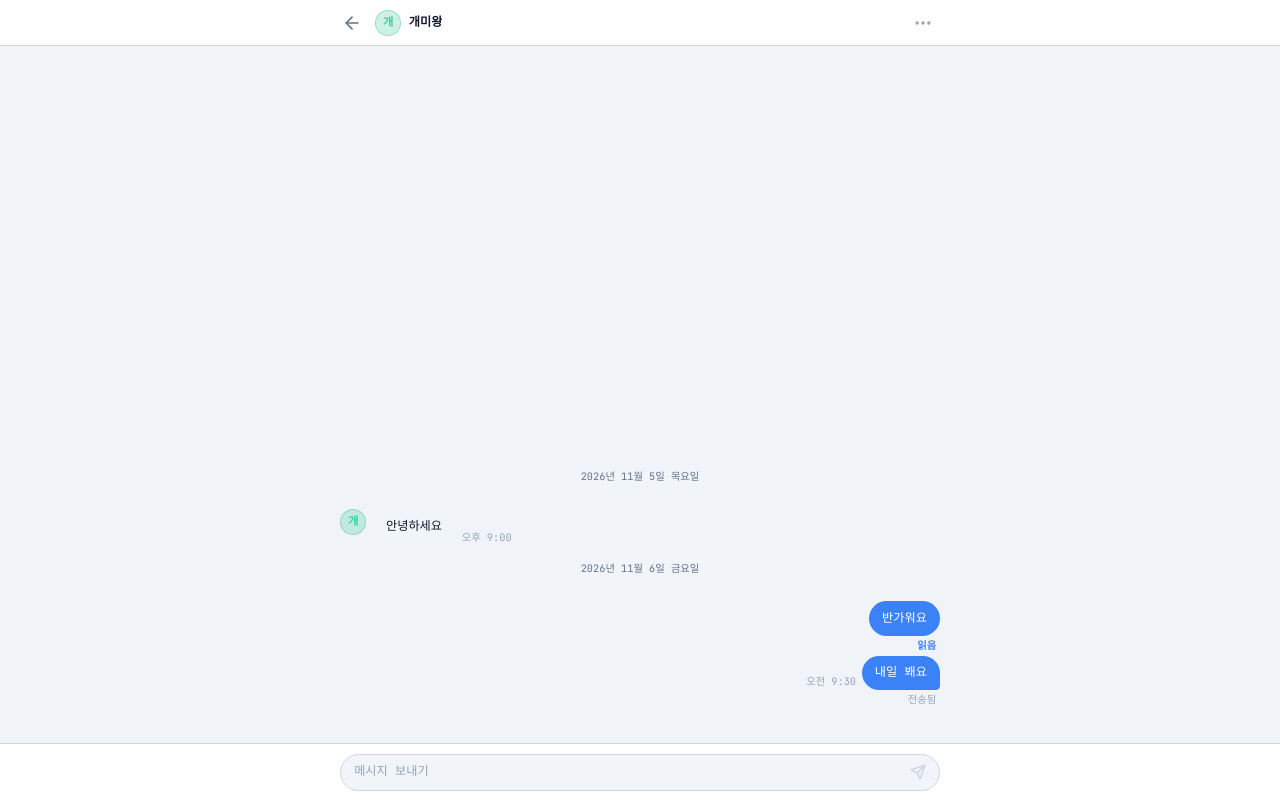
Test: 보내기 › 못 보내면 '못 보냄' — 눌러서 다시 보내기, 지우기
Expected: the button "안녕하세요" is shown, [372,509,456,546]
Step 1. Type "다시" into the text box named "메시지 쓰기" → coordinates (628, 772), box [354,762,902,782]
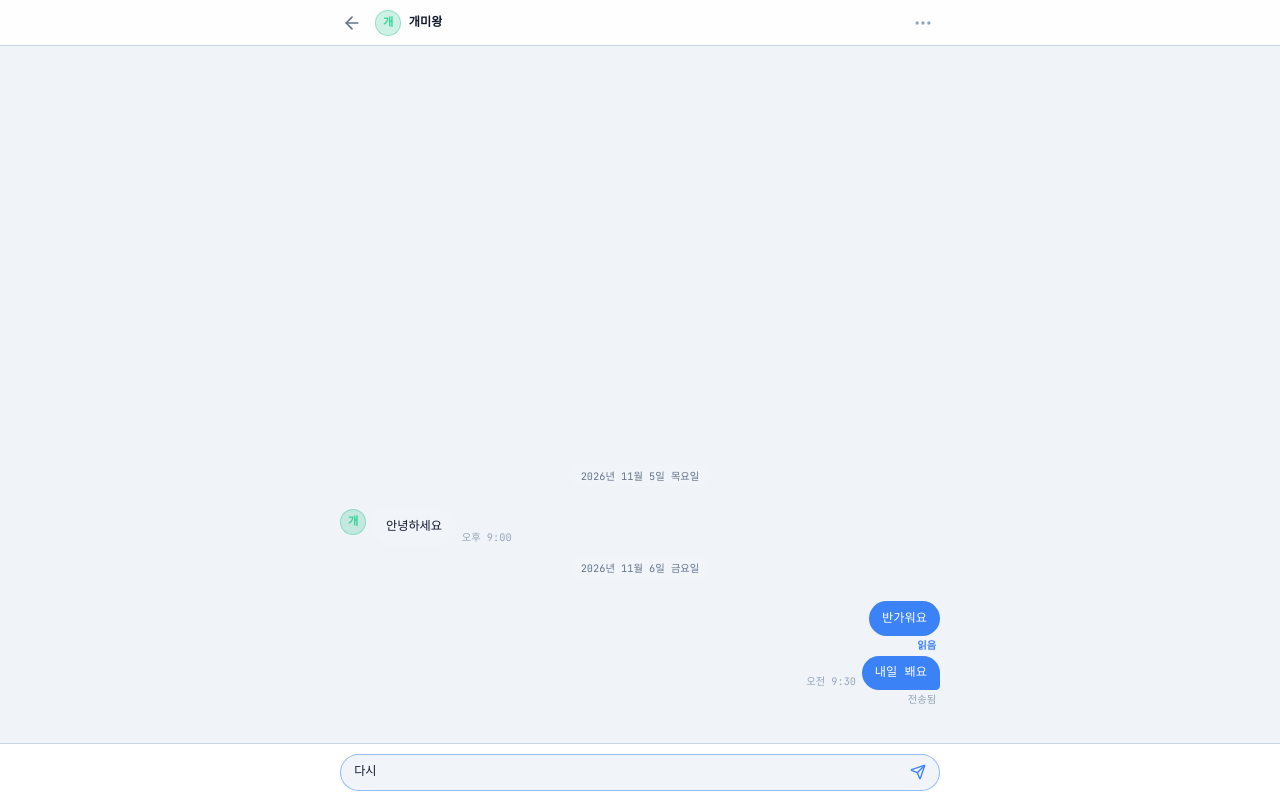
Step 2. Click the button named "보내기" → coordinates (918, 772), box [910,764,926,780]
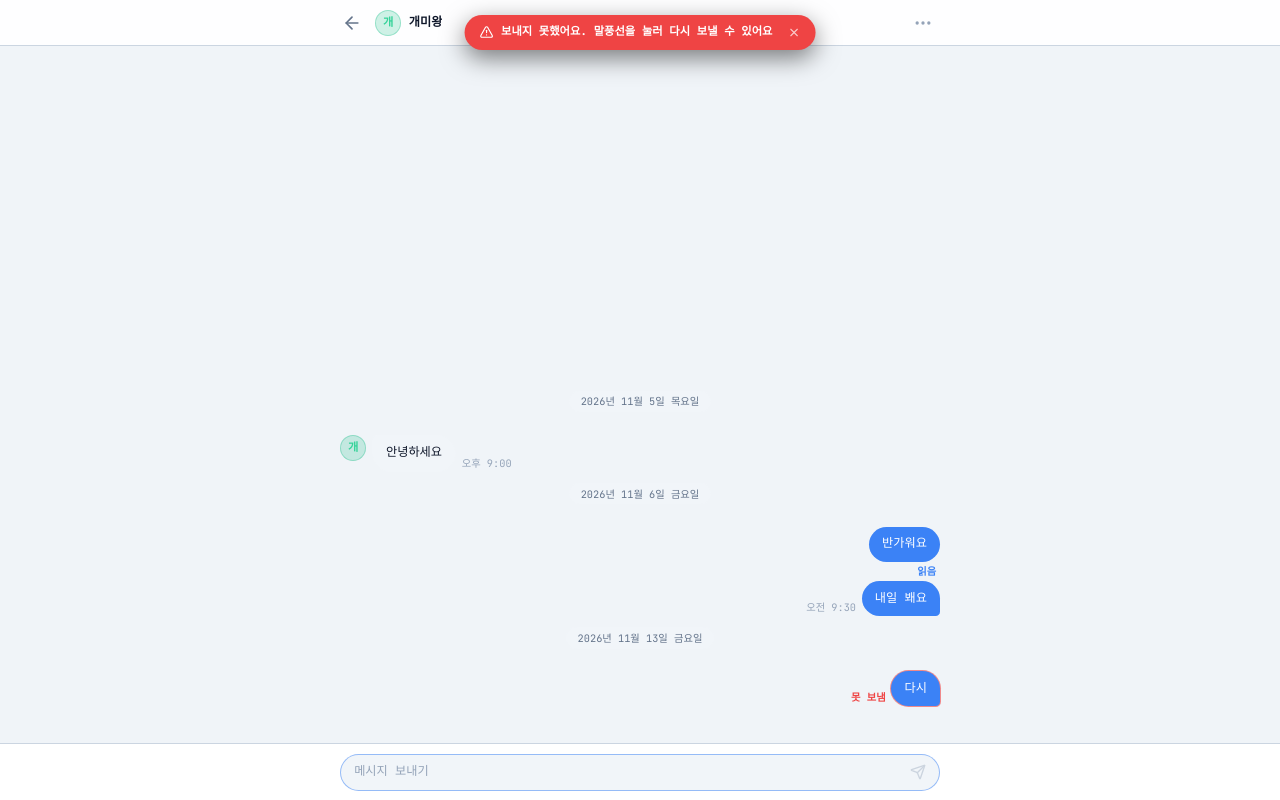
Result: the text "못 보냄" is shown at [851,690,886,706]
Result: the message shows "보내지 못했어요" at [501,24,772,38]
Step 3. Click the button "다시" → coordinates (916, 689), box [891,672,940,706]
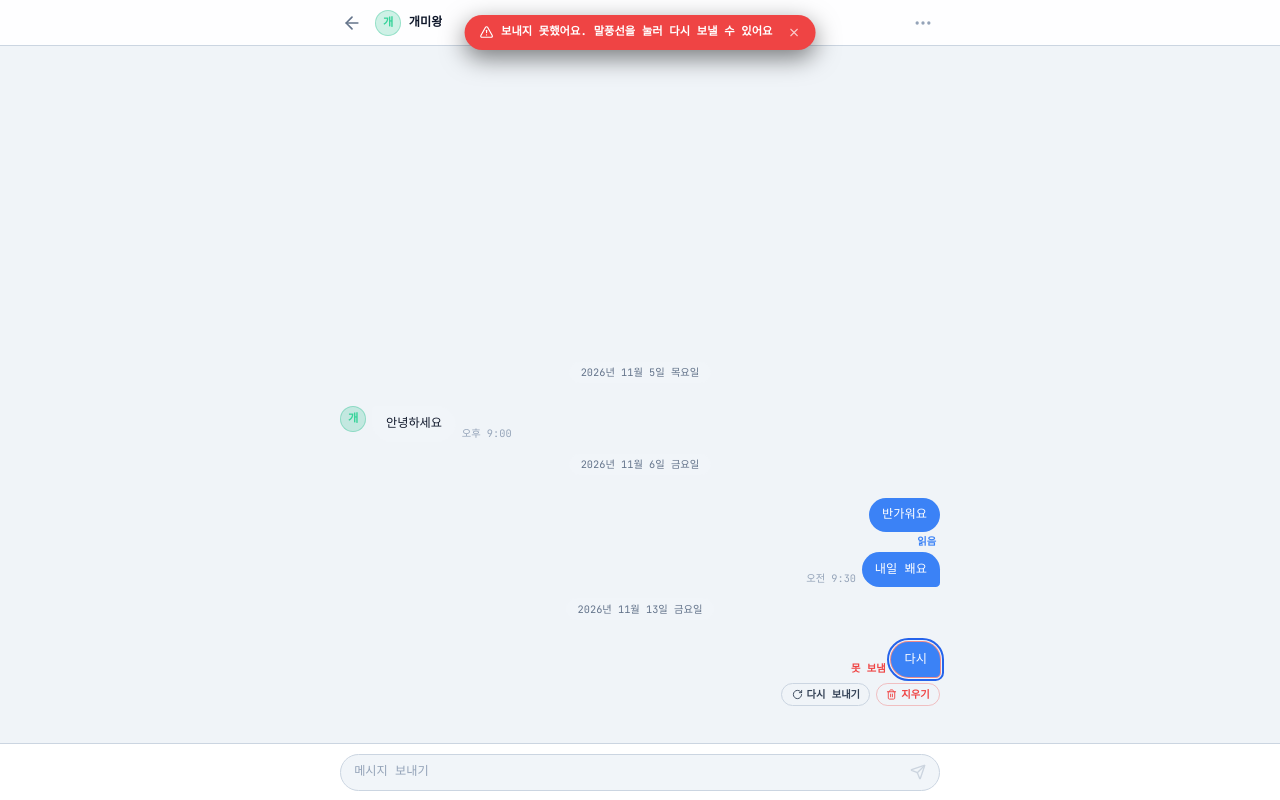
Step 4. Click the button "다시 보내기" → coordinates (826, 694), box [781,683,870,706]
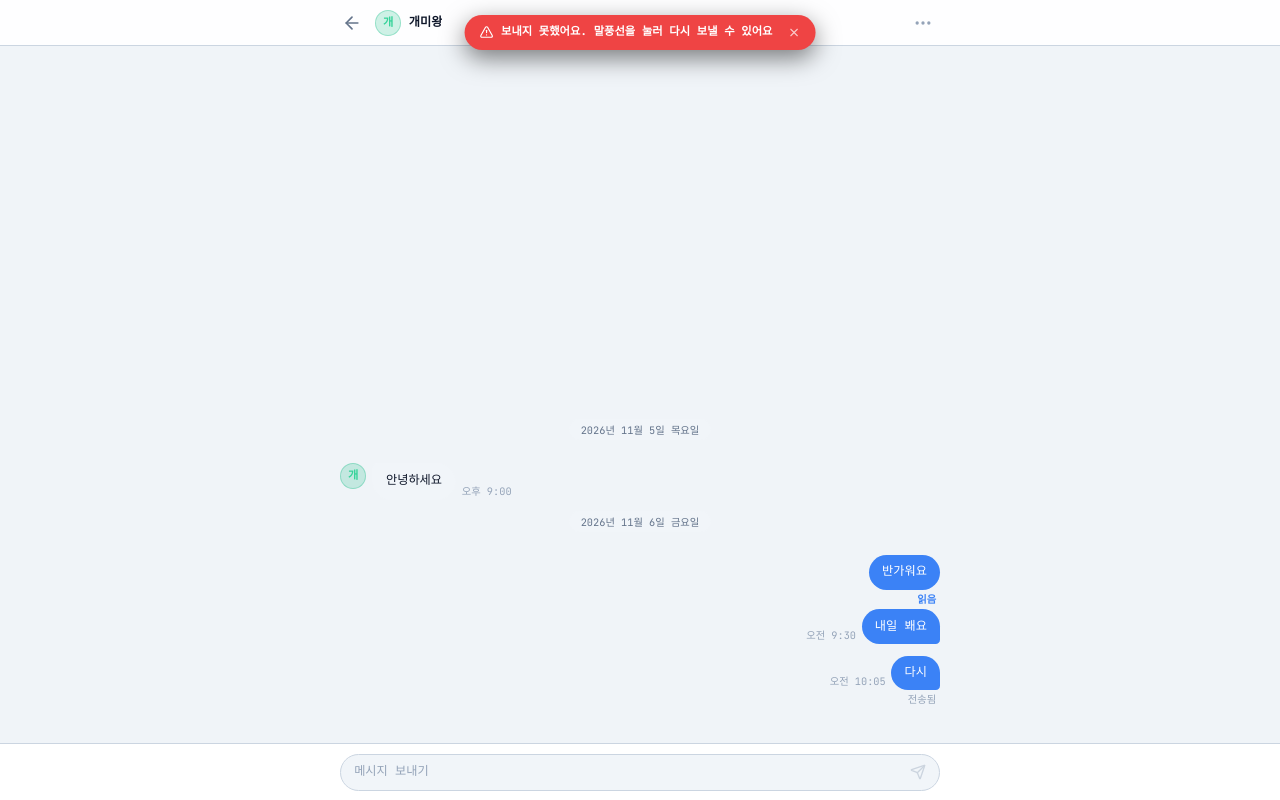
Result: the number of buttons "다시" is 1 at [891,656,940,690]
Result: the text "못 보냄" is gone
